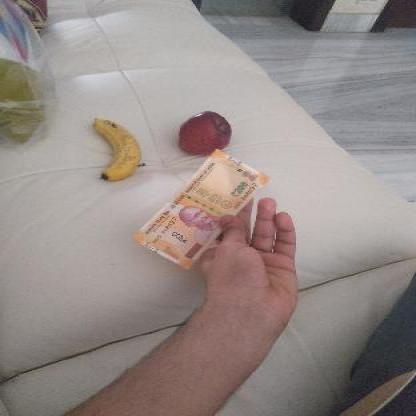New200Front: (146, 146, 266, 268)
